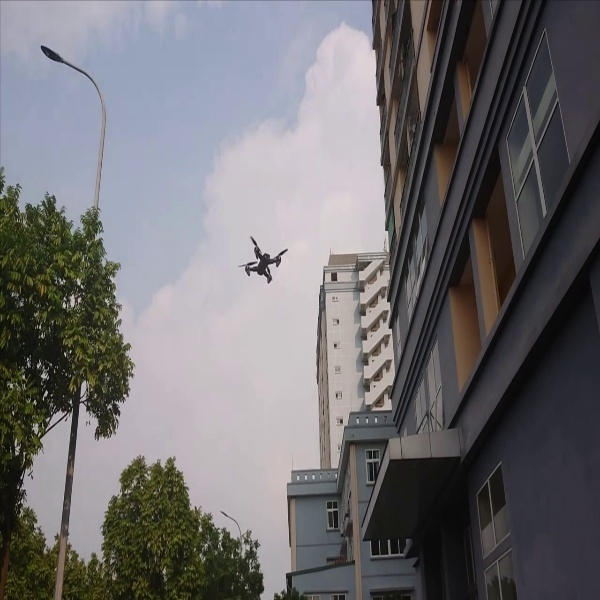drone: (232, 230, 292, 293)
